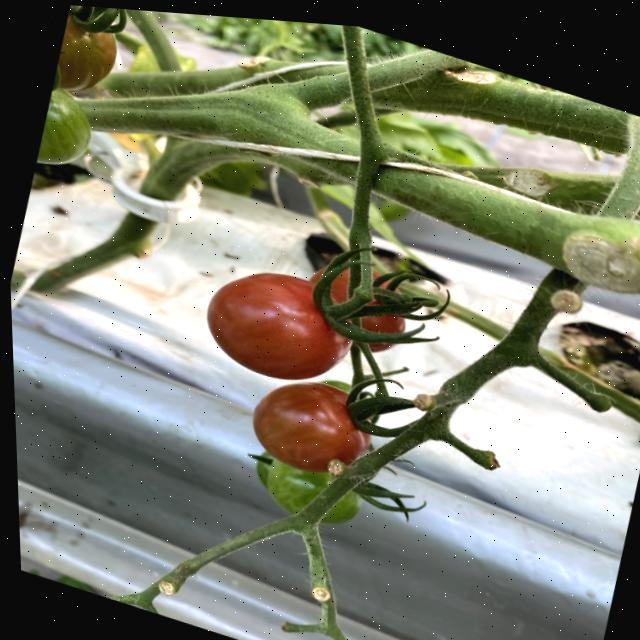ripe2: (200, 252, 364, 399), (248, 366, 374, 485)
